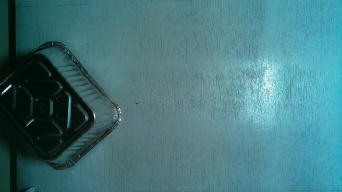f: (1, 42, 126, 171)
